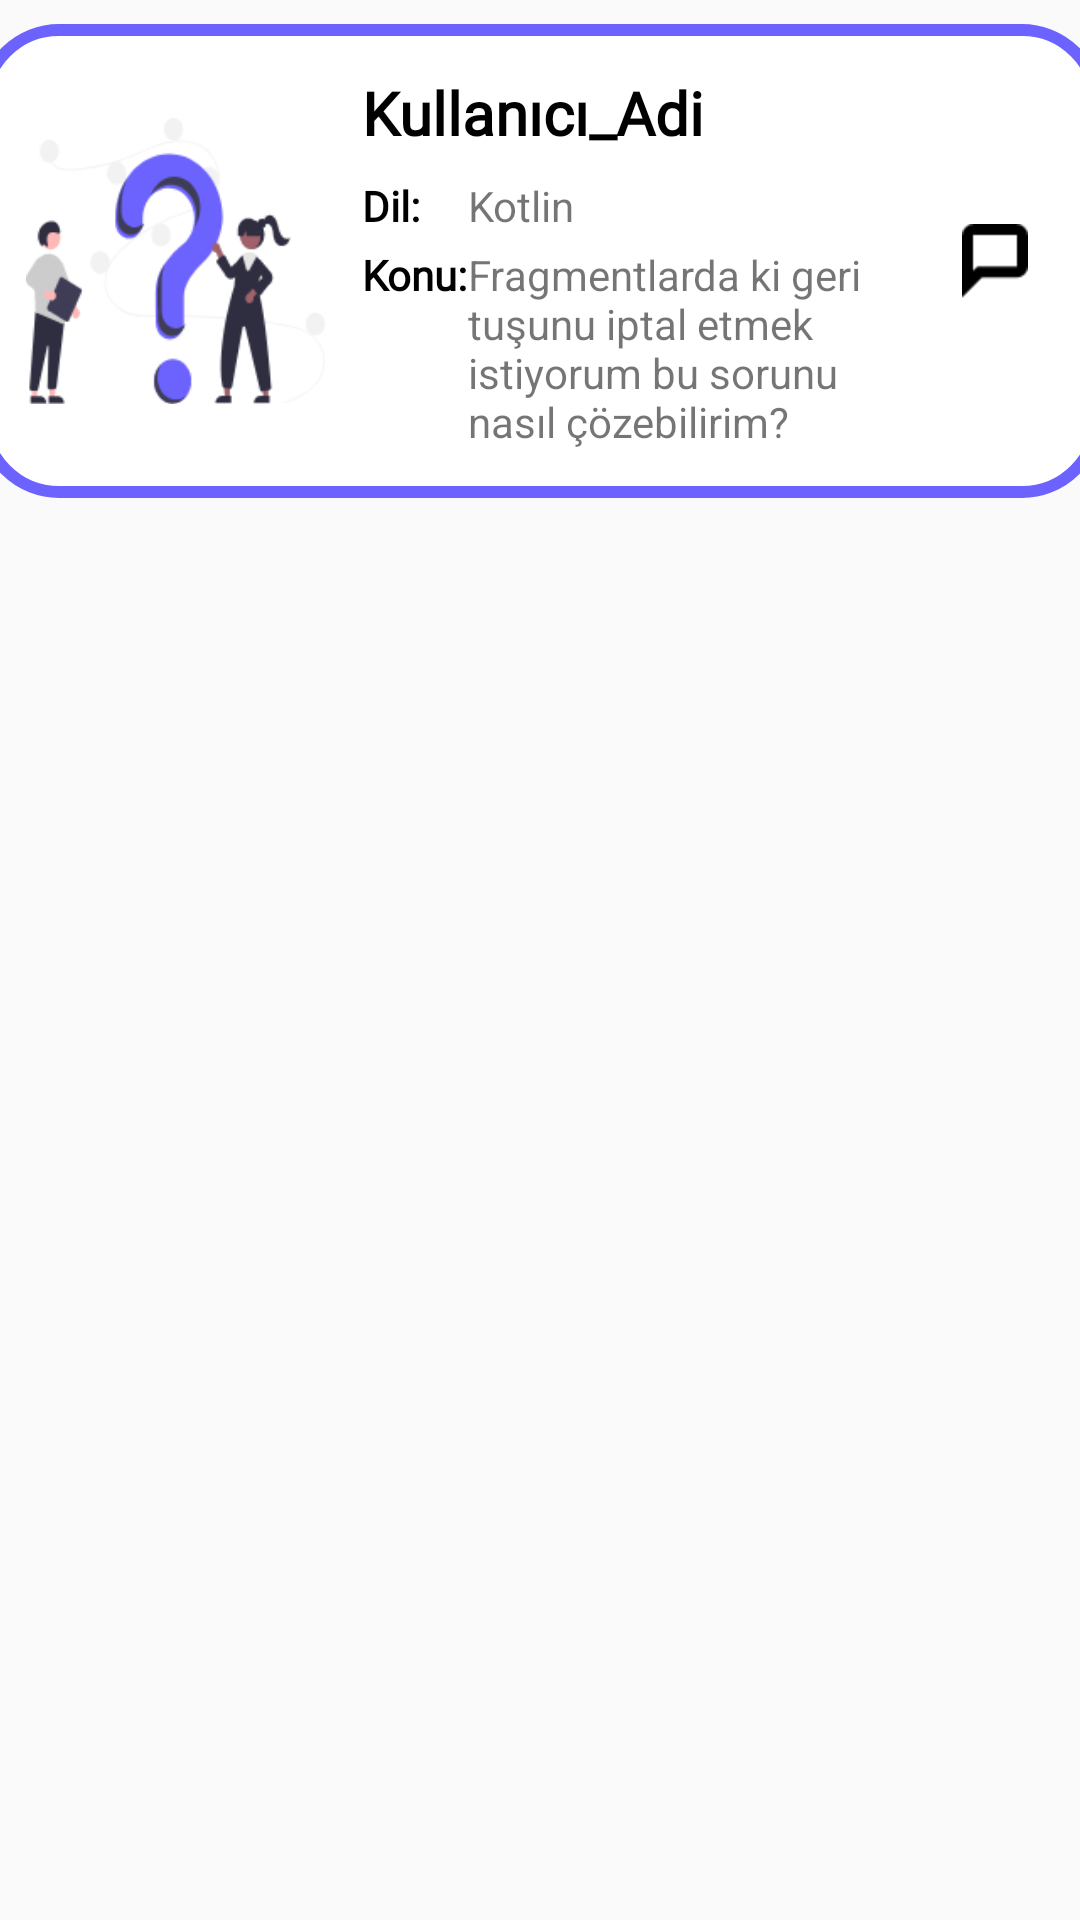

Icon click points for this 1080*1920 phone screenshot, format (x=x, y=y):
mesaj: (x=995, y=261)
soru sor pic: (x=158, y=278)
